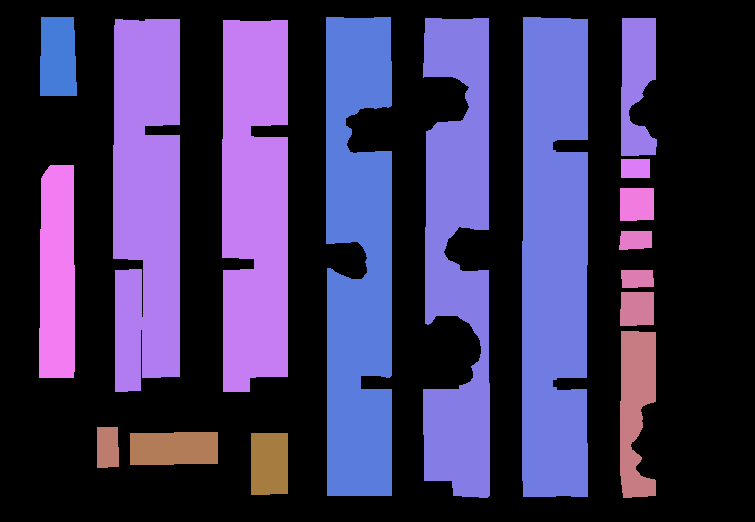parkingspot: (522, 17, 557, 496), (142, 135, 179, 377), (452, 270, 489, 497), (253, 137, 287, 376), (222, 20, 256, 258), (113, 19, 146, 259), (326, 17, 361, 243), (357, 151, 391, 377), (553, 152, 587, 377), (327, 268, 360, 495), (39, 165, 74, 377), (425, 121, 459, 324), (456, 18, 488, 229), (620, 331, 655, 497), (621, 18, 656, 155), (223, 269, 256, 391), (554, 18, 587, 139), (145, 19, 179, 125), (357, 389, 391, 495), (253, 20, 287, 125), (554, 389, 587, 496), (423, 389, 458, 480), (115, 269, 141, 391), (357, 17, 391, 109), (40, 17, 76, 95), (130, 432, 217, 464), (251, 433, 287, 494), (423, 18, 458, 79), (620, 292, 653, 325), (620, 188, 653, 220), (97, 427, 118, 467), (619, 231, 651, 249), (621, 270, 653, 287), (621, 159, 649, 177)
